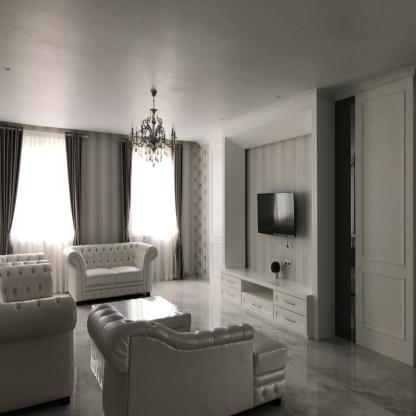sova: (61, 242, 156, 302)
tv: (255, 191, 299, 240)
